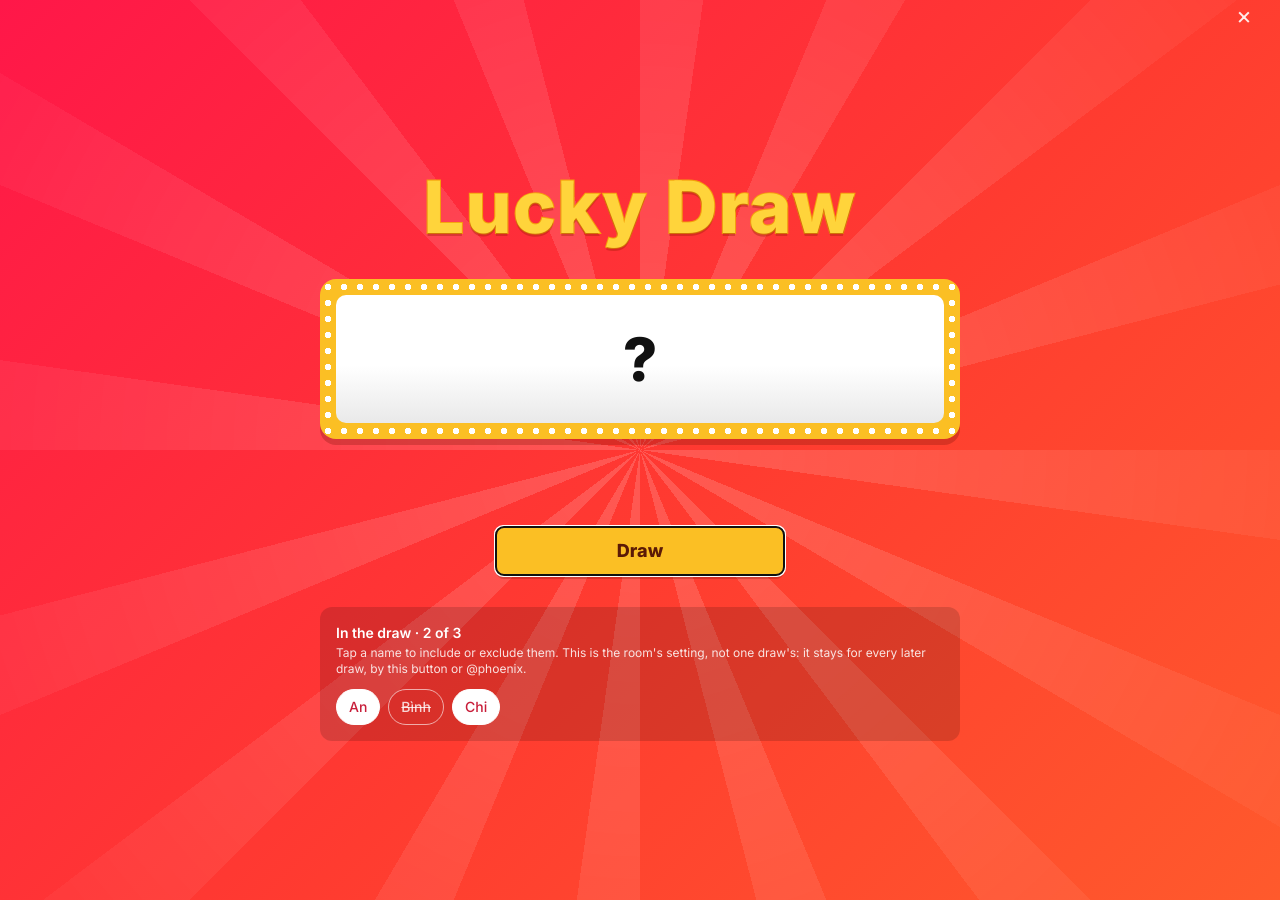
LuckyDrawDialog › puts a toggle back when saving fails
This screenshot has width=1280, height=900.
Click the button "An" at (358, 707), box [336,689,380,725]
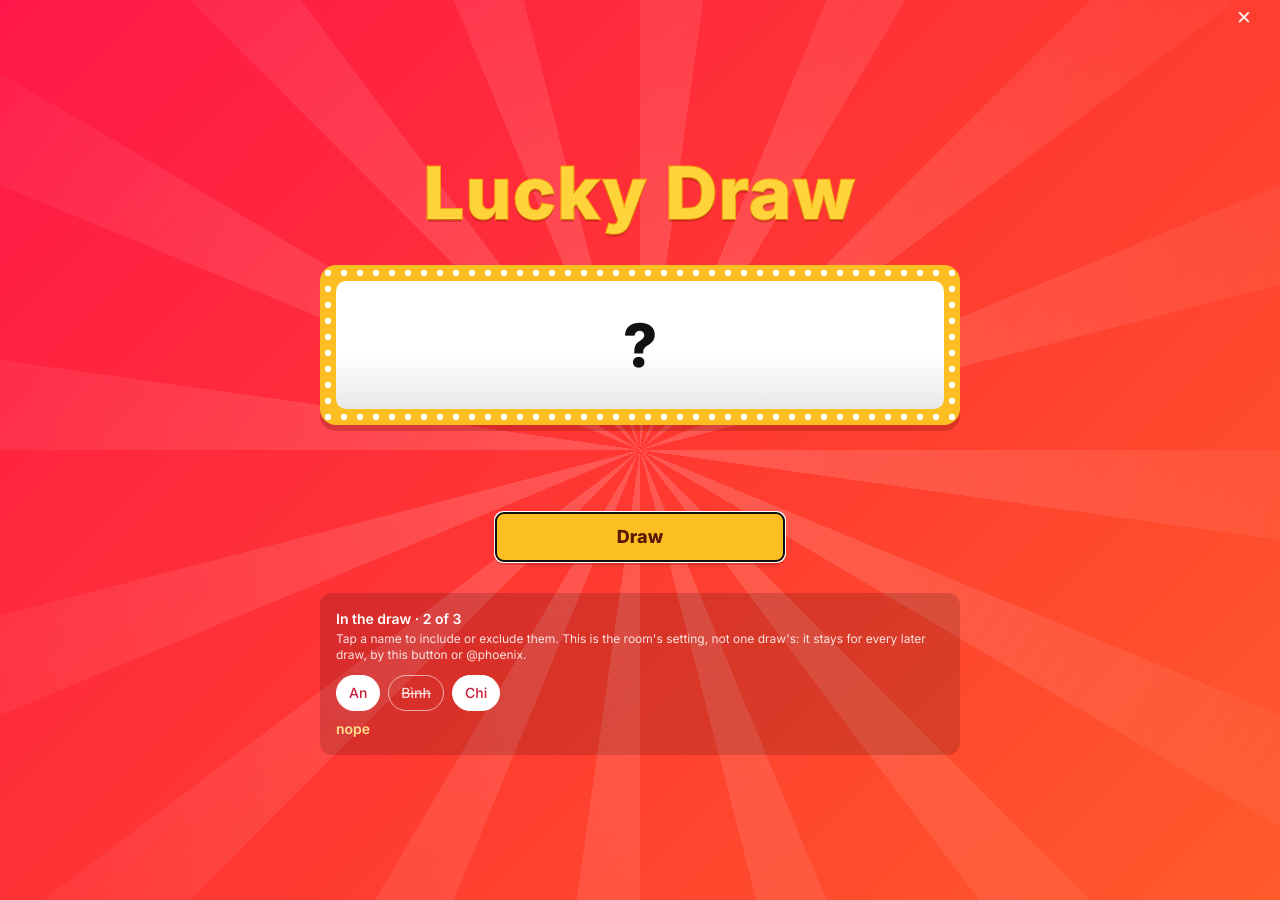
Expected: the message reads "nope", [336,720,370,737]
